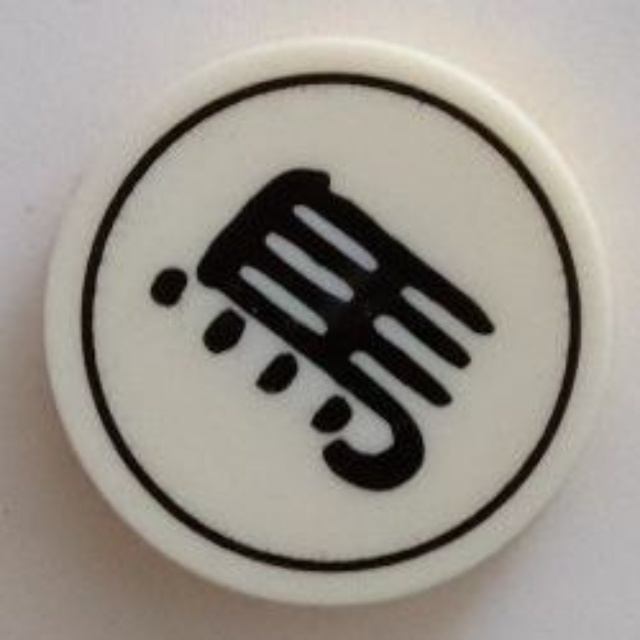black_ma: (52, 29, 626, 617)
